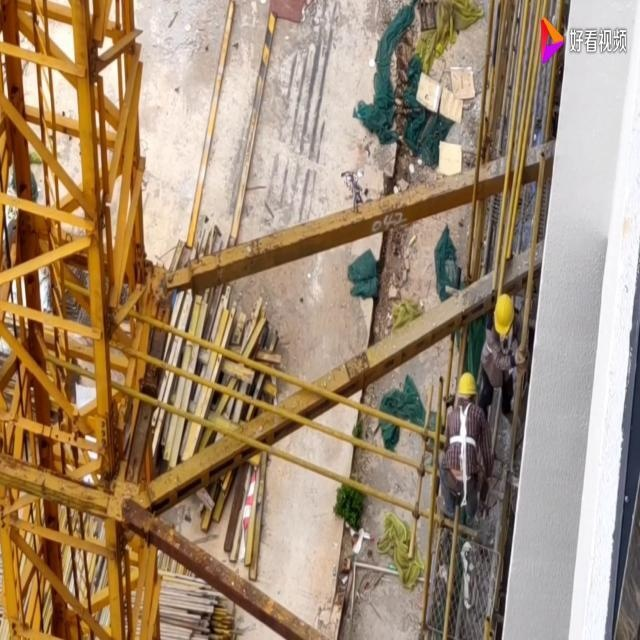Arnes_seguridad: (448, 398, 481, 452), (483, 312, 515, 358)
